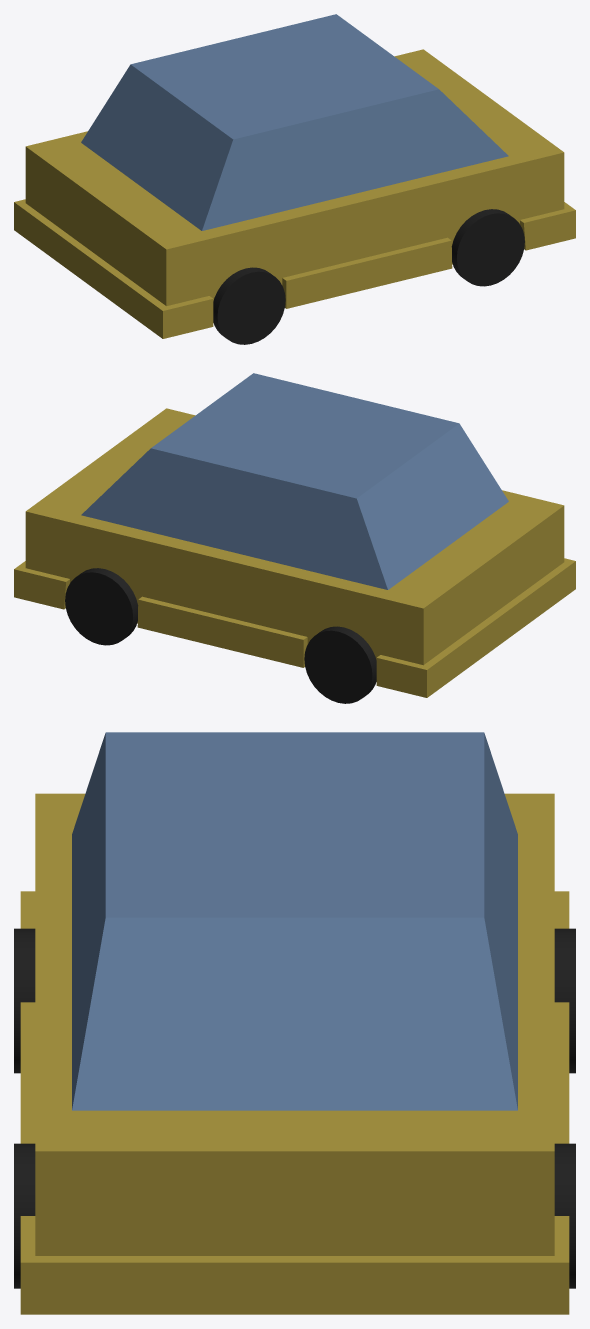
Rendered from Taxi.fbx.
3 views of the same model, one above another, from view 1: azimuth 30°, elevation 25°; view 2: azimuth 150°, elevation 25°; view 3: azimuth 270°, elevation 25° (orthographic). The views are drawn at different scales.
Visible parts, largest first — view 1: Cube, Cylinder; view 2: Cube, Cylinder; view 3: Cube, Cylinder.
Part boxes in pixels (x1=…): Cube: x1=14, y1=14, x2=575, y2=338; Cylinder: x1=213, y1=209, x2=524, y2=344; Cube: x1=14, y1=373, x2=575, y2=697; Cylinder: x1=65, y1=568, x2=376, y2=703; Cube: x1=20, y1=732, x2=569, y2=1314; Cylinder: x1=14, y1=928, x2=575, y2=1288.
Size of the model in its own units: 1798 by 768 by 1149.
